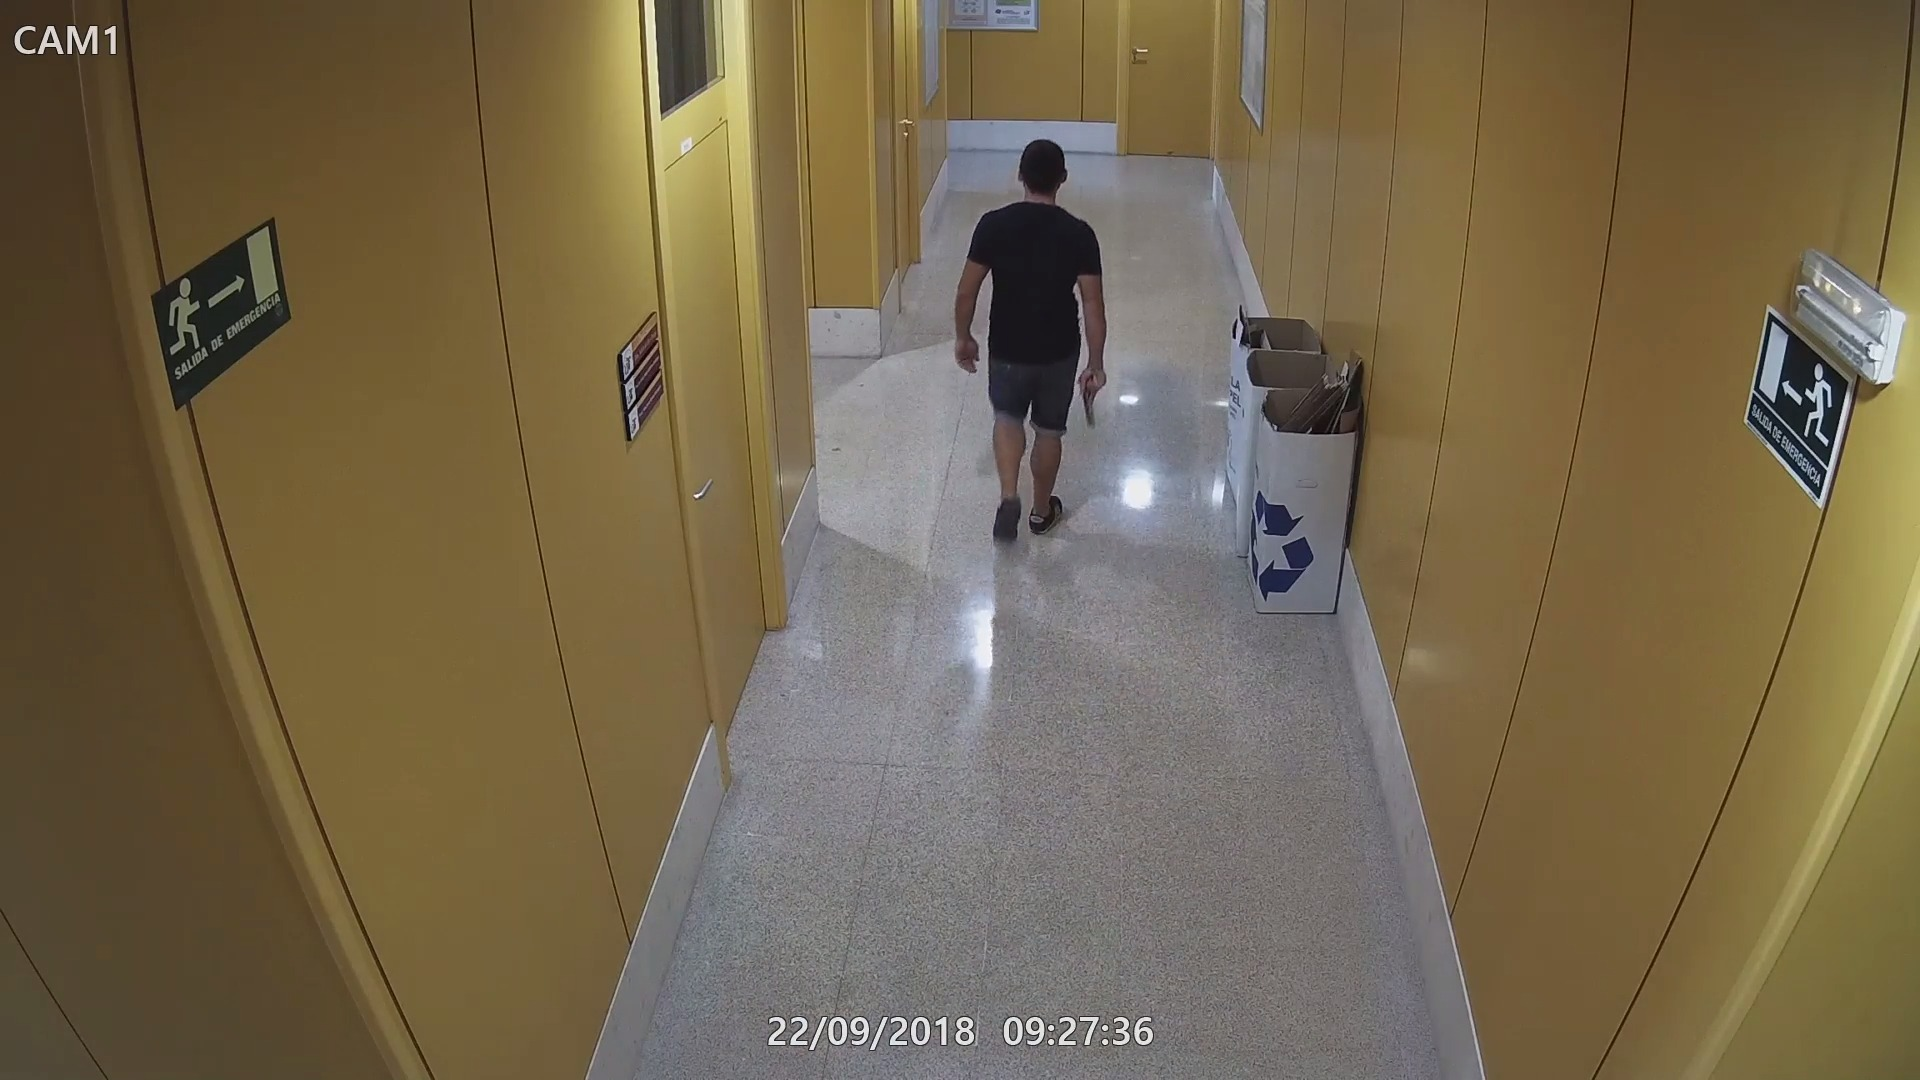Handgun: (1077, 364, 1109, 426)
